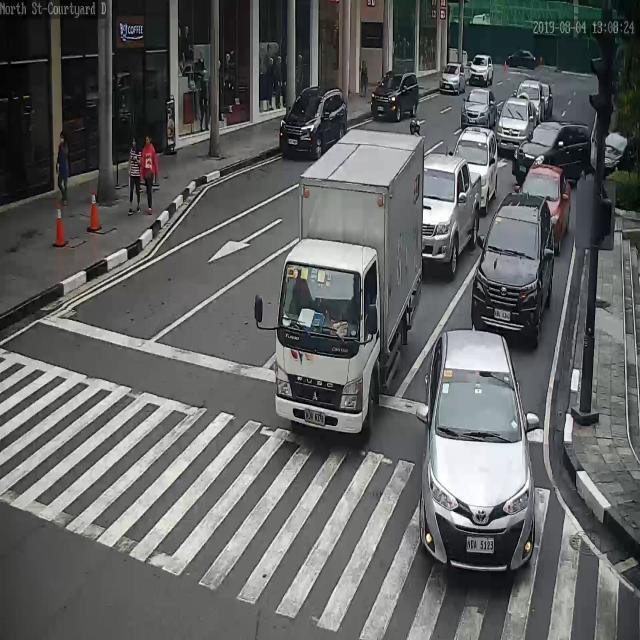car: (419, 329, 536, 575), (470, 191, 554, 342), (423, 152, 480, 274), (279, 85, 350, 160), (513, 122, 590, 182), (519, 162, 571, 240), (450, 128, 499, 205), (370, 71, 420, 121), (496, 99, 536, 151), (605, 128, 639, 175), (460, 88, 498, 129), (515, 78, 544, 129), (440, 63, 469, 93), (469, 55, 495, 84), (506, 50, 540, 70), (542, 80, 553, 120)
jeepney: (410, 118, 421, 137)
motorcycle: (277, 124, 423, 432)
